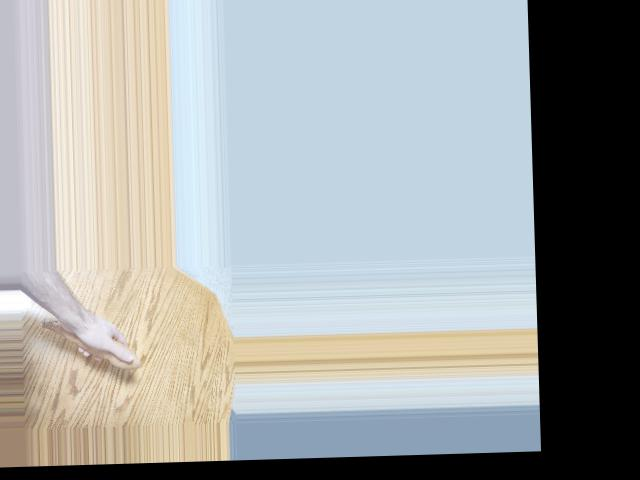sweet_potato: (38, 313, 136, 370)
